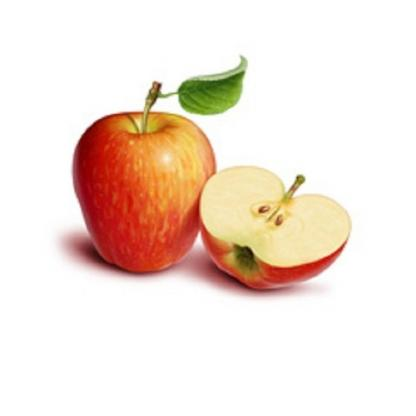apple: (71, 109, 222, 285)
